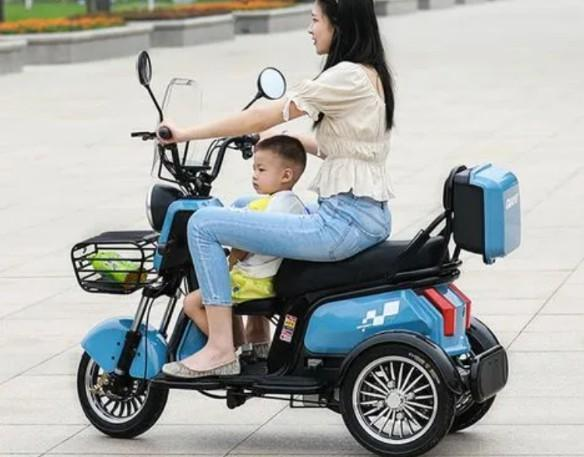driver: (146, 1, 439, 421)
overloading: (75, 1, 544, 456)
passenger: (209, 115, 298, 381)
